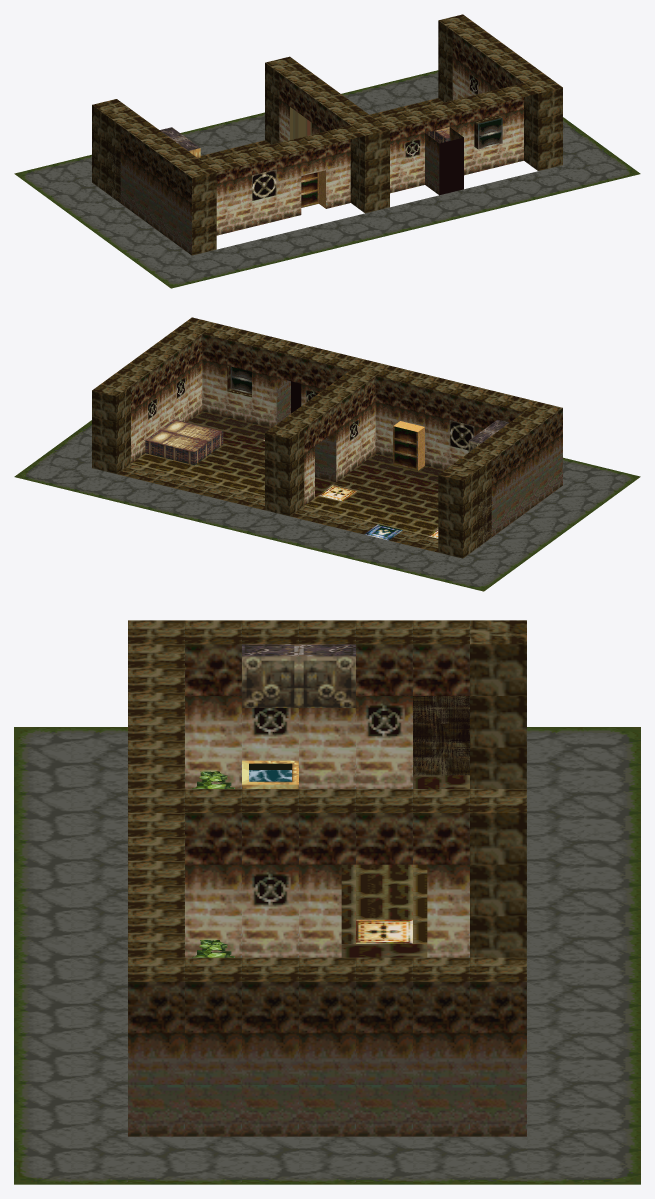
The model's file is catalog.obj.
3 renders of one model, top to bottom at view 1: azimuth 30°, elevation 25°; view 2: azimuth 150°, elevation 25°; view 3: azimuth 270°, elevation 25°, orthographic. The views are drawn at different scales.
Visible parts, largest first — view 1: cell_9_9, cell_16_9, cell_21_9, cell_14_9, cell_12_9, cell_10_9, cell_18_9, cell_13_9, cell_19_9, cell_20_9, cell_22_8, cell_22_10 (+15 smaller); view 2: cell_9_9, cell_22_14, cell_16_9, cell_17_9, cell_8_14, cell_15_14, cell_10_9, cell_18_9, cell_11_9, cell_9_12, cell_12_9, cell_16_14 (+20 smaller); view 3: cell_8_8, cell_8_9, cell_8_10, cell_8_11, cell_8_12, cell_8_13, cell_8_14, cell_14_10, cell_21_10, cell_21_11, cell_21_12, cell_14_14 (+126 smaller).
Boxes of the visible parts, left/top/right/bottom form: cell_9_9: left=499, top=73, right=562, bottom=170; cell_16_9: left=326, top=115, right=389, bottom=212; cell_21_9: left=192, top=169, right=227, bottom=255; cell_14_9: left=365, top=127, right=400, bottom=213; cell_12_9: left=425, top=115, right=463, bottom=195; cell_10_9: left=474, top=103, right=502, bottom=172; cell_18_9: left=276, top=151, right=301, bottom=220; cell_13_9: left=400, top=121, right=424, bottom=190; cell_19_9: left=252, top=157, right=276, bottom=226; cell_20_9: left=227, top=163, right=251, bottom=232; cell_22_8: left=177, top=161, right=215, bottom=255; cell_22_10: left=149, top=140, right=187, bottom=234; cell_9_9: left=188, top=334, right=227, bottom=427; cell_22_14: left=438, top=464, right=477, bottom=558; cell_16_9: left=361, top=376, right=400, bottom=469; cell_17_9: left=386, top=382, right=424, bottom=476; cell_8_14: left=92, top=380, right=130, bottom=473; cell_15_14: left=265, top=422, right=303, bottom=516; cell_10_9: left=213, top=340, right=251, bottom=433; cell_18_9: left=411, top=388, right=449, bottom=482; cell_11_9: left=238, top=346, right=276, bottom=439; cell_9_12: left=145, top=365, right=183, bottom=459; cell_12_9: left=263, top=352, right=301, bottom=440; cell_16_14: left=290, top=428, right=328, bottom=522; cell_8_8: left=128, top=957, right=184, bottom=1136; cell_8_9: left=185, top=957, right=241, bottom=1136; cell_8_10: left=242, top=957, right=298, bottom=1136; cell_8_11: left=299, top=957, right=355, bottom=1136; cell_8_12: left=356, top=957, right=412, bottom=1136; cell_8_13: left=413, top=957, right=469, bottom=1136; cell_8_14: left=470, top=957, right=526, bottom=1136; cell_14_10: left=242, top=813, right=298, bottom=957; cell_21_10: left=242, top=644, right=298, bottom=788; cell_21_11: left=299, top=644, right=355, bottom=788; cell_21_12: left=356, top=644, right=412, bottom=788; cell_14_14: left=470, top=813, right=526, bottom=957.
Bounding box in the file's own units: 0.2969 × 0.0469 × 0.1719.
Materials: 24 (24 with a texture image).
